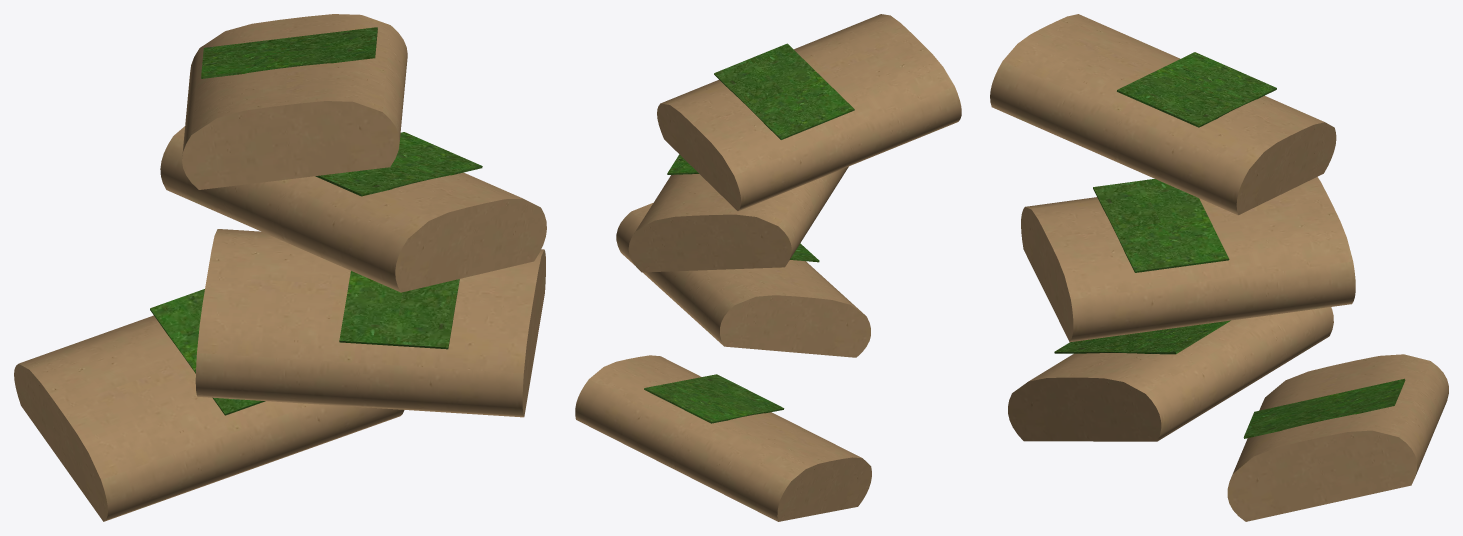
The model's file is PAV-PAI-002_anim.glb.
3 views of the same model, side by side, from view 1: azimuth 30°, elevation 25°; view 2: azimuth 150°, elevation 25°; view 3: azimuth 270°, elevation 25° (orthographic). The views are drawn at different scales.
Visible parts, largest first — view 1: PAV-PAI-002_anim1, PAV-PAI-002_anim0, PAV-PAI-002_anim3, PAV-PAI-002_anim2; view 2: PAV-PAI-002_anim3, PAV-PAI-002_anim0, PAV-PAI-002_anim1, PAV-PAI-002_anim2; view 3: PAV-PAI-002_anim2, PAV-PAI-002_anim3, PAV-PAI-002_anim0, PAV-PAI-002_anim1.
Part boxes in pixels (<box>): PAV-PAI-002_anim1: <box>195,229,545,417</box>; PAV-PAI-002_anim0: <box>14,289,404,521</box>; PAV-PAI-002_anim3: <box>182,14,407,189</box>; PAV-PAI-002_anim2: <box>160,126,546,292</box>; PAV-PAI-002_anim3: <box>657,14,961,211</box>; PAV-PAI-002_anim0: <box>575,355,871,521</box>; PAV-PAI-002_anim1: <box>616,203,870,357</box>; PAV-PAI-002_anim2: <box>628,154,848,272</box>; PAV-PAI-002_anim2: <box>1021,177,1355,342</box>; PAV-PAI-002_anim3: <box>990,14,1336,215</box>; PAV-PAI-002_anim0: <box>1227,354,1448,521</box>; PAV-PAI-002_anim1: <box>1008,307,1333,441</box>.
Size of the model in its own units: 0.4262 by 0.5056 by 0.4696.
Materials: 2 (2 with a texture image).
